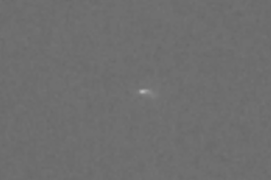Target: (140, 90, 146, 92)
